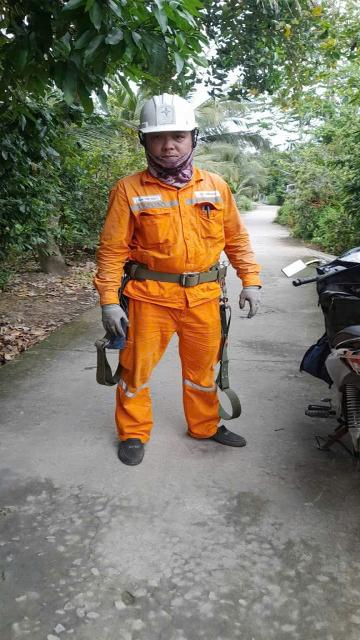gloves: (98, 293, 136, 350), (241, 297, 266, 324)
harness: (106, 248, 250, 295)
helmet: (135, 88, 201, 140)
shoes: (192, 420, 264, 460), (111, 436, 167, 468)
